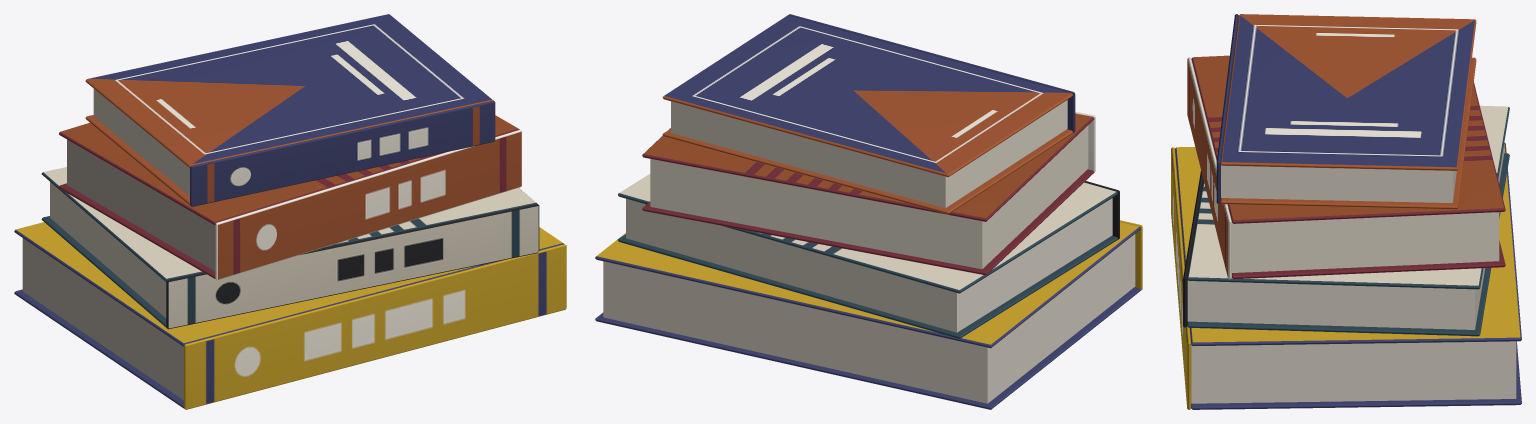
Rendered from ap_book_stack.glb.
3 views of the same model, side by side, from view 1: azimuth 30°, elevation 25°; view 2: azimuth 150°, elevation 25°; view 3: azimuth 270°, elevation 25° (orthographic). The views are drawn at different scales.
Visible parts, largest first — view 1: ap_book_stack; view 2: ap_book_stack; view 3: ap_book_stack.
Boxes of the visible parts, x1=… form: ap_book_stack: x1=14, y1=14, x2=566, y2=409; ap_book_stack: x1=595, y1=14, x2=1142, y2=409; ap_book_stack: x1=1171, y1=14, x2=1521, y2=409.
Bounding box in the file's own units: 0.2561 × 0.13 × 0.1886.
Materials: 2 (1 with a texture image).
